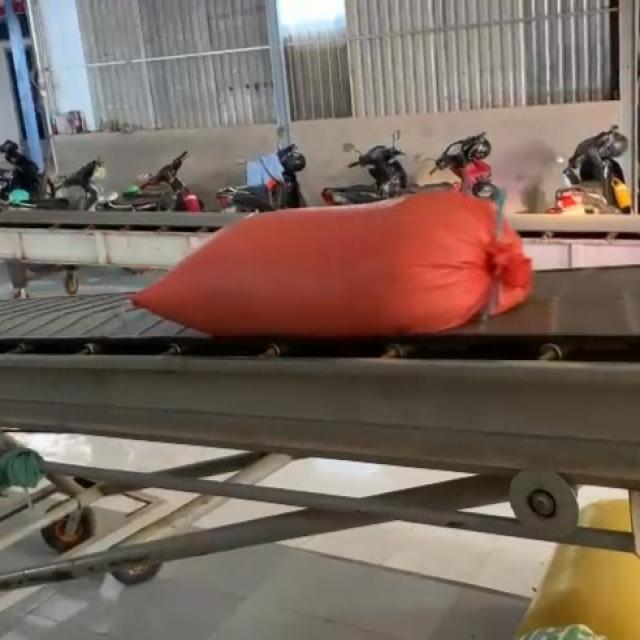gunny_bag: (133, 189, 533, 338)
